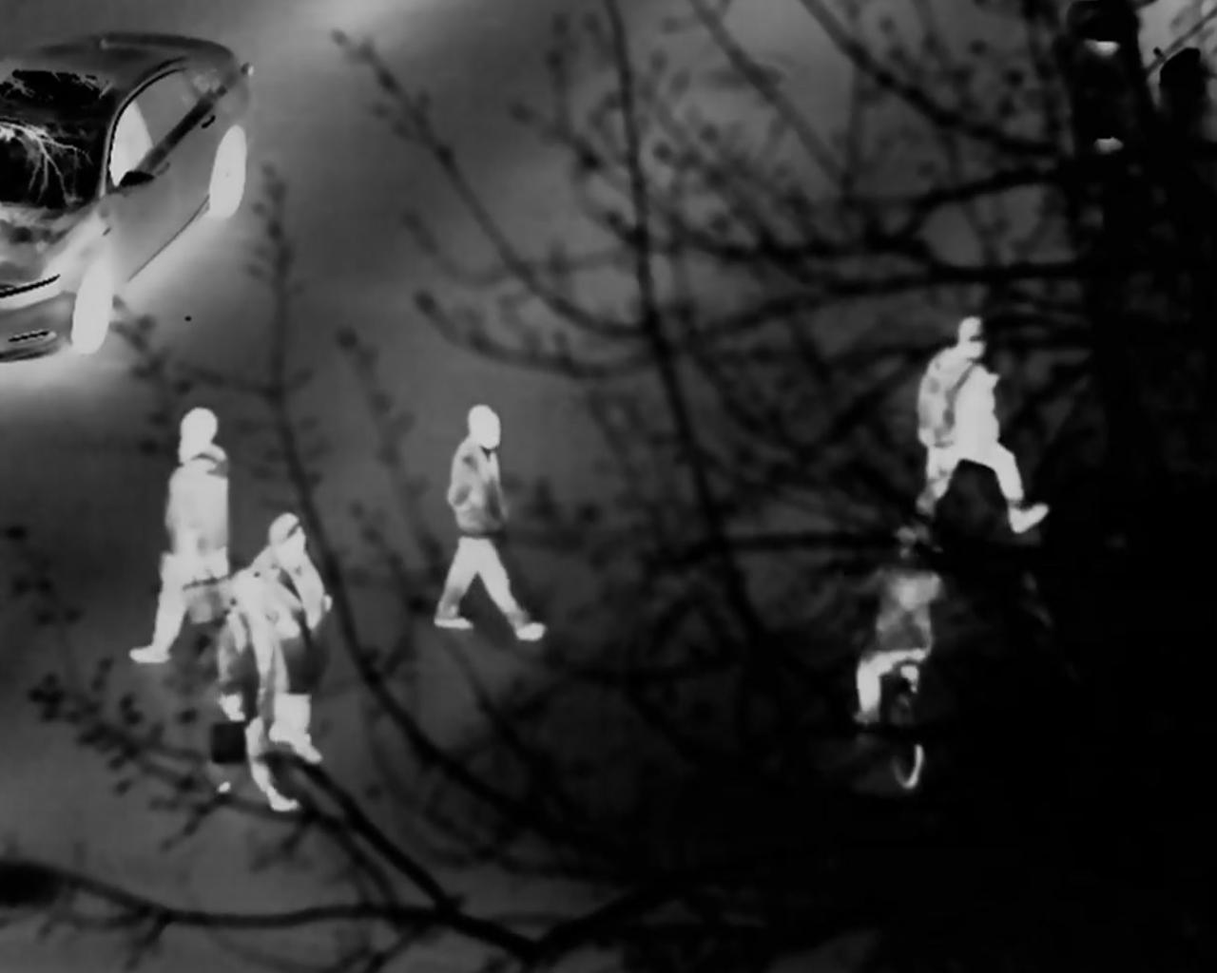person: (919, 320, 1049, 544), (222, 514, 333, 764), (128, 399, 234, 648), (445, 399, 541, 647), (215, 571, 306, 818), (848, 531, 940, 730)
